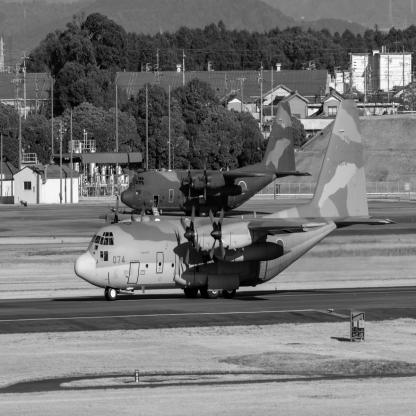C130: (75, 100, 398, 302), (121, 101, 314, 218)
